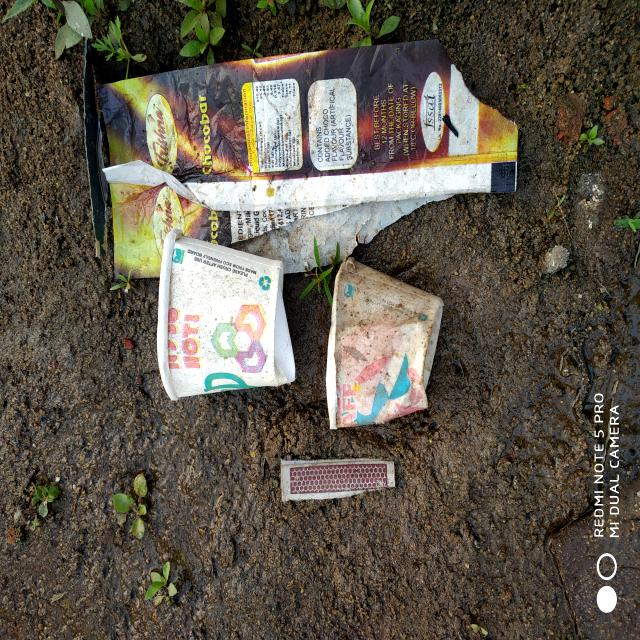Trash: (259, 113, 460, 640), (180, 201, 306, 398), (155, 425, 287, 586), (96, 365, 146, 533)
